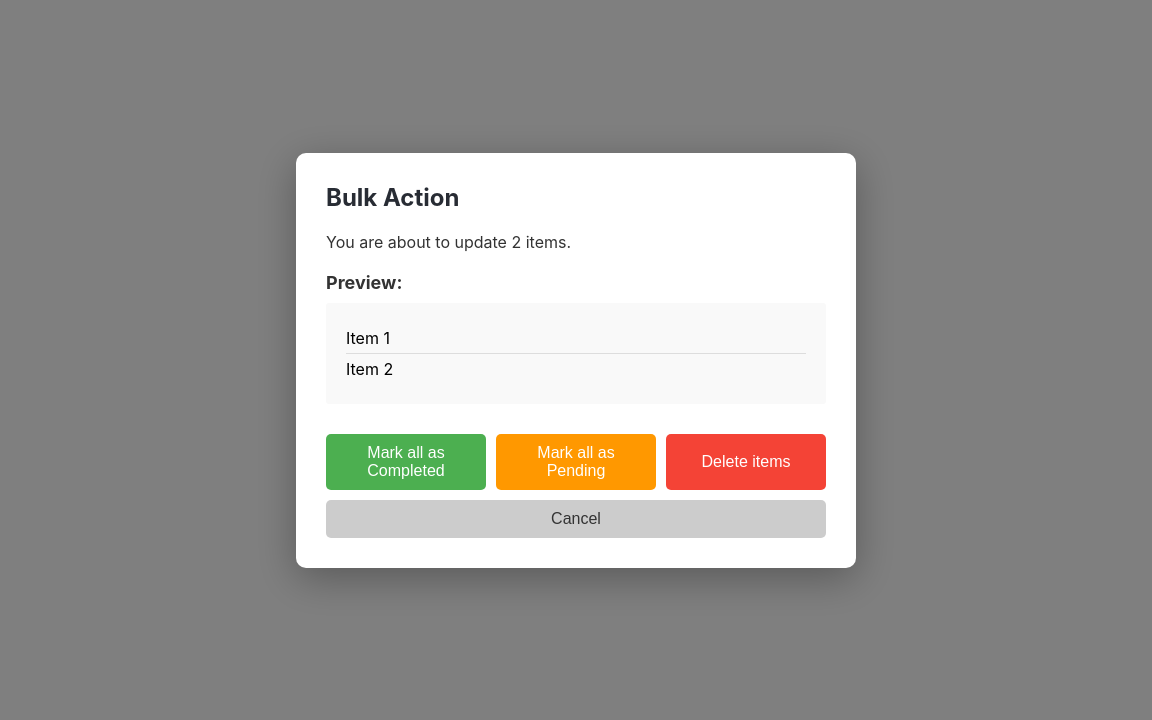
Test case: BulkActionModal › shows delete warning in confirmation screen
What coordinates should you click on to do the following:
click the button "Delete items"
I would click on:
 (746, 462)
Its box is [666,434,826,490].
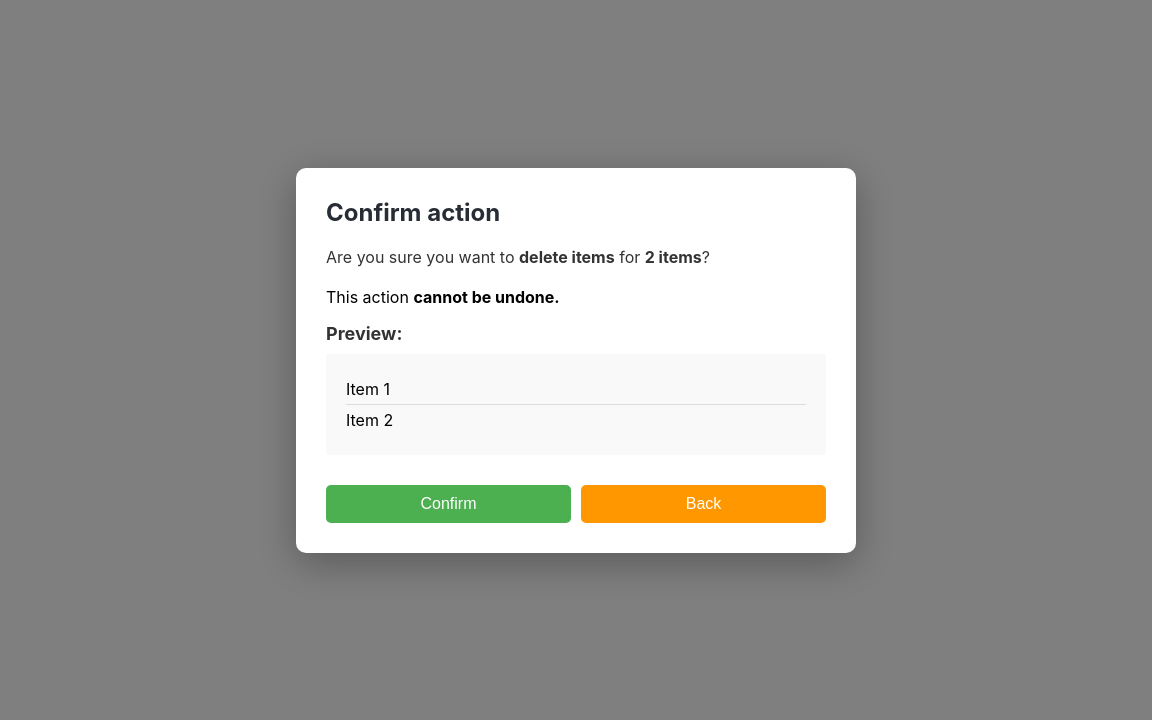
expect the text "cannot be undone." is shown: met, box [413,286,560,306]
